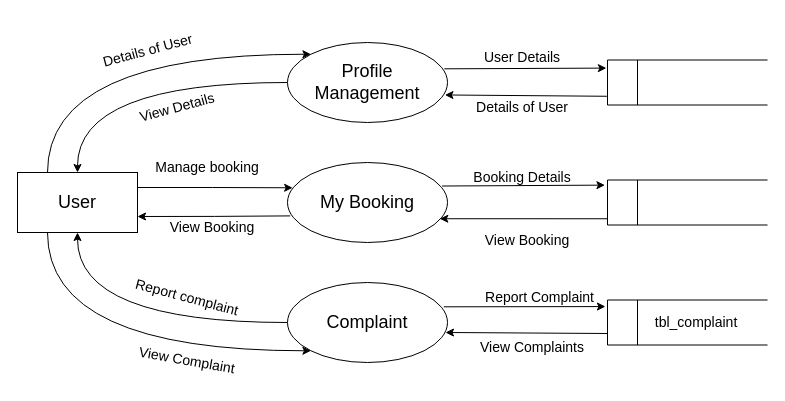
Some shapes in this 785 by 401 pixel diagram are drawn without their labels. Each missing label, with the box of its shape:
tbl_booking: (606, 179, 768, 225)
tbl_user: (606, 59, 768, 105)
